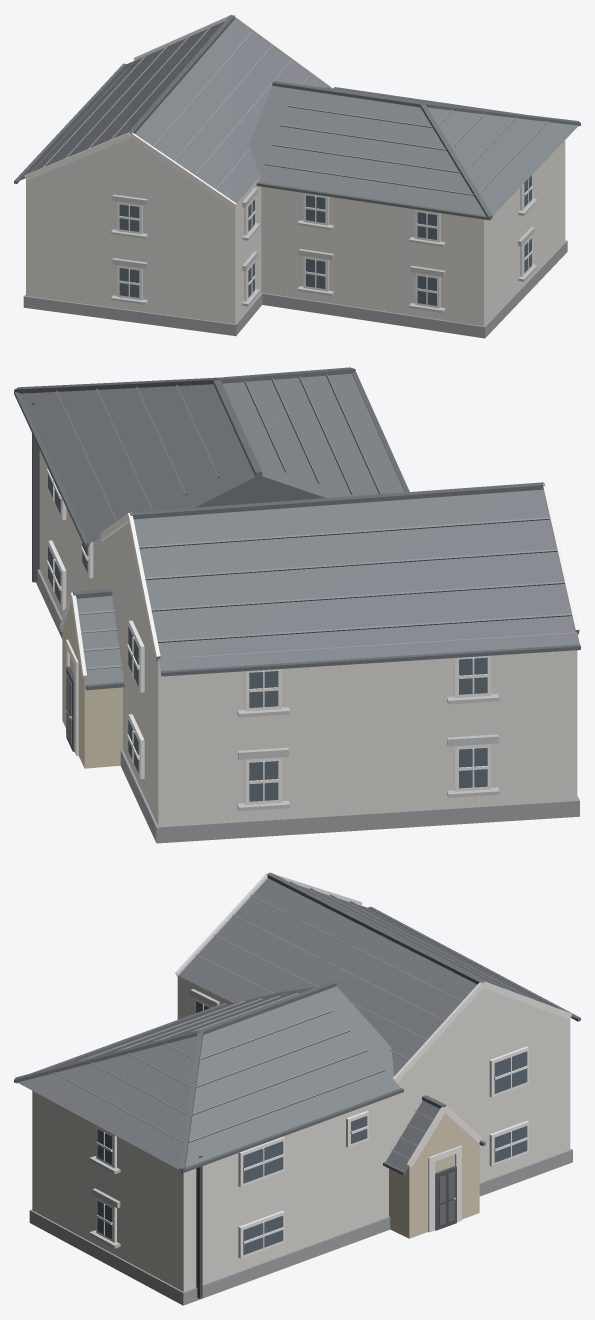
3 renders of one model, top to bottom at view 1: azimuth 30°, elevation 25°; view 2: azimuth 150°, elevation 25°; view 3: azimuth 270°, elevation 25°, orthographic. The views are drawn at different scales.
Parts seen in each view (by area): view 1: harl_grey, slate, plinth, frame, slate_dk, slate_lt, stone_band, window_glass_008, window_glass_012, window_glass_006, window_glass_013, window_glass_009 (+1 smaller); view 2: slate, harl_grey, slate_dk, frame, plinth, slate_lt, ss, stone_band, pipe, window_glass_014, window_glass_016, window_glass_015 (+1 smaller); view 3: slate, harl_grey, frame, slate_dk, slate_lt, plinth, ss, window_glass_001, window_glass_004, window_glass_002, pipe, stone_band (+3 smaller).
Boxes of the visible parts, bbox=[...] form: harl_grey: bbox=[26, 63, 565, 326]; slate: bbox=[17, 19, 578, 215]; plinth: bbox=[23, 240, 567, 338]; frame: bbox=[24, 14, 532, 308]; slate_dk: bbox=[14, 15, 580, 220]; slate_lt: bbox=[42, 26, 547, 195]; stone_band: bbox=[111, 188, 537, 313]; window_glass_008: bbox=[417, 275, 436, 305]; window_glass_012: bbox=[119, 268, 139, 297]; window_glass_006: bbox=[306, 259, 325, 288]; window_glass_013: bbox=[119, 204, 139, 231]; window_glass_009: bbox=[417, 212, 436, 239]; slate: bbox=[20, 373, 579, 684]; harl_grey: bbox=[39, 450, 577, 826]; slate_dk: bbox=[14, 367, 580, 690]; frame: bbox=[47, 468, 579, 804]; plinth: bbox=[36, 569, 579, 843]; slate_lt: bbox=[56, 374, 571, 669]; ss: bbox=[62, 606, 122, 768]; stone_band: bbox=[237, 693, 499, 811]; pipe: bbox=[32, 402, 39, 582]; window_glass_014: bbox=[249, 761, 278, 801]; window_glass_016: bbox=[459, 748, 487, 788]; window_glass_015: bbox=[249, 671, 278, 707]; slate: bbox=[17, 878, 576, 1171]; harl_grey: bbox=[32, 905, 570, 1291]; frame: bbox=[96, 872, 572, 1258]; slate_dk: bbox=[14, 872, 580, 1175]; slate_lt: bbox=[53, 881, 545, 1159]; plinth: bbox=[29, 1148, 572, 1305]; ss: bbox=[389, 1113, 479, 1238]; window_glass_001: bbox=[243, 1141, 283, 1183]; window_glass_004: bbox=[494, 1051, 527, 1093]; window_glass_002: bbox=[243, 1215, 283, 1255]; pipe: bbox=[196, 1155, 202, 1298]; stone_band: bbox=[89, 989, 219, 1248].
Size of the model in its own units: 20.3 by 7.59 by 18.3.
